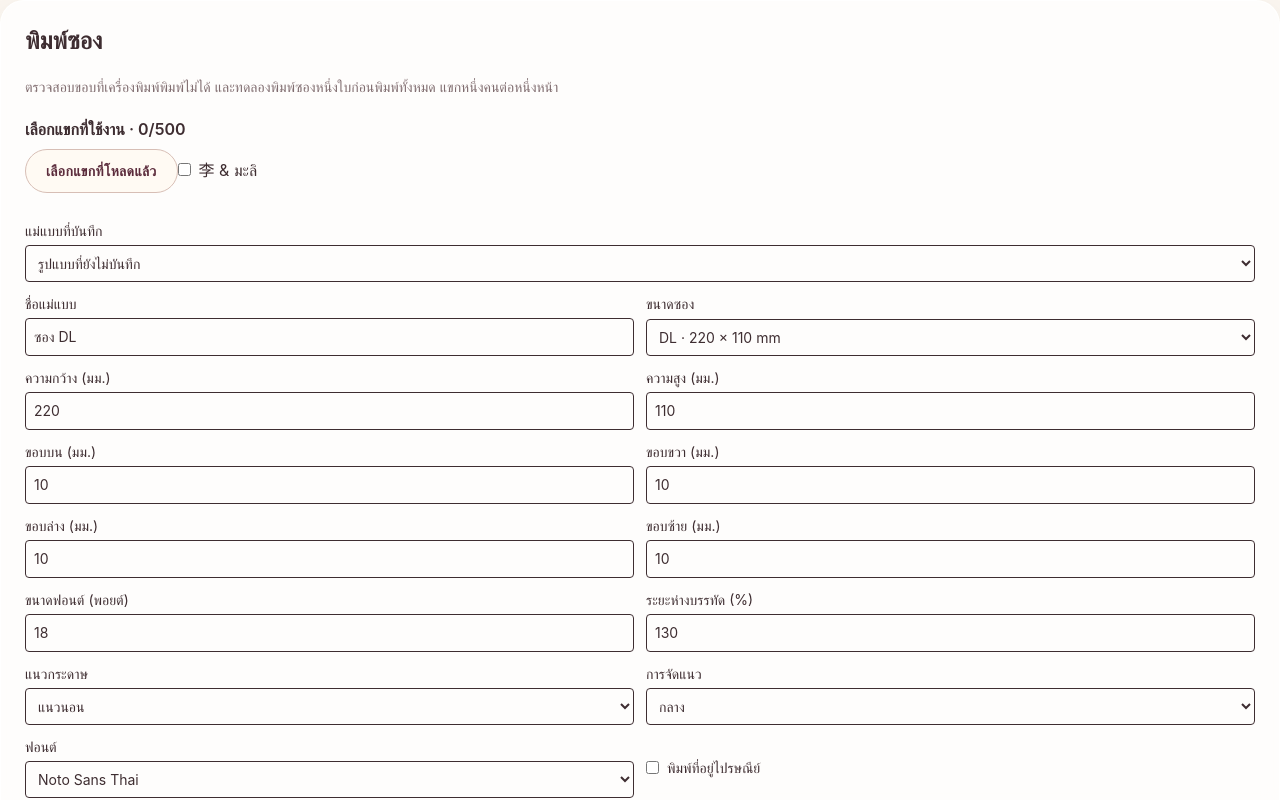
Test: EnvelopeWorkspace › sets up Thai printing without changing a Unicode guest name
The width and height of the screenshot is (1280, 800).
Expected: the heading "พิมพ์ซอง" is shown, [25,28,102,54]
Step 1. Click the checkbox named "พิมพ์ซองของ 李 & มะลิ" → coordinates (184, 170), box [178,163,191,176]
(page scrolled)
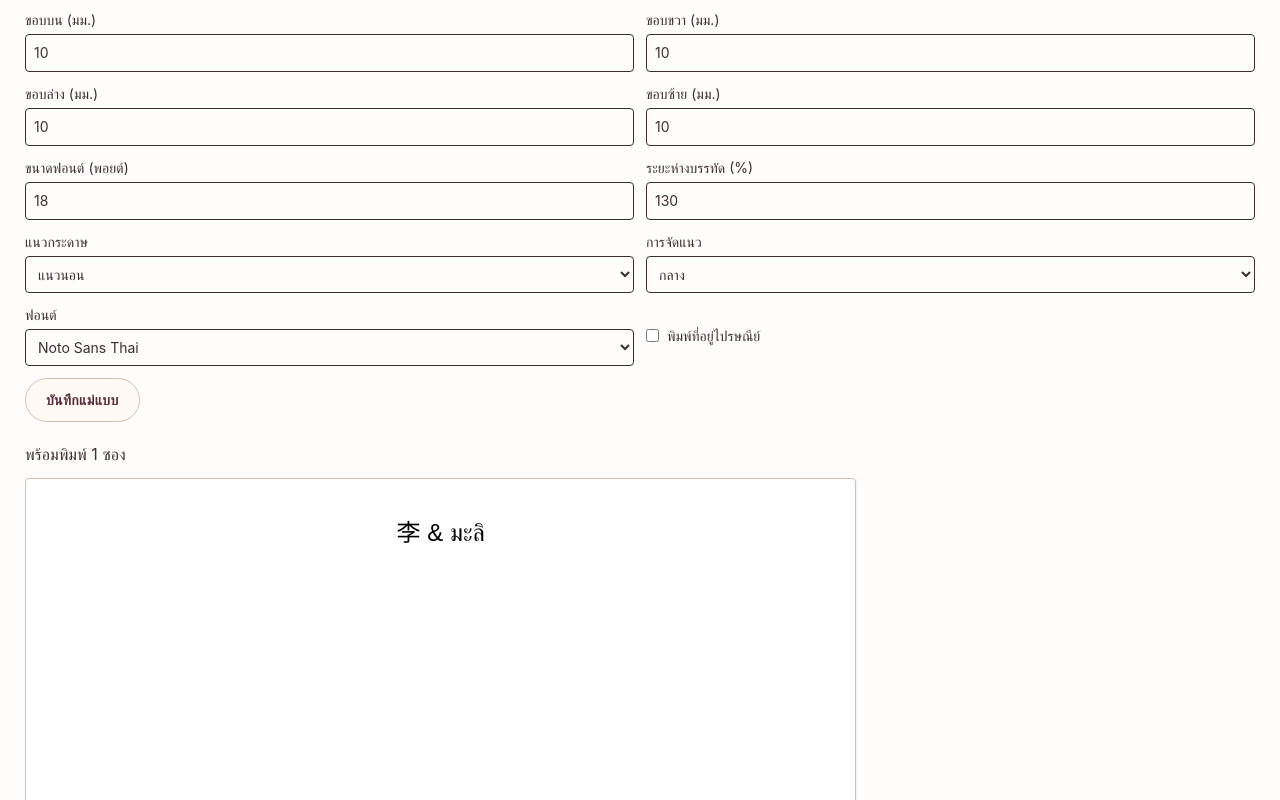
Expected: the button "บันทึกแม่แบบ" is shown, [25,378,140,422]
Expected: the text "李 & มะลิ" is shown, [397,519,485,546]
